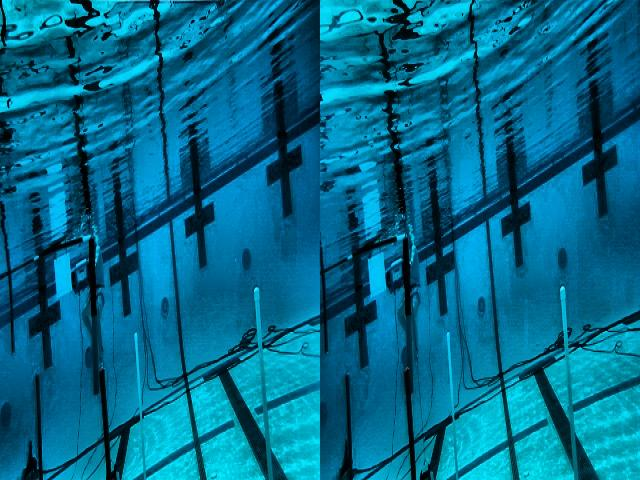gate: (320, 230, 413, 400), (7, 230, 101, 397)
